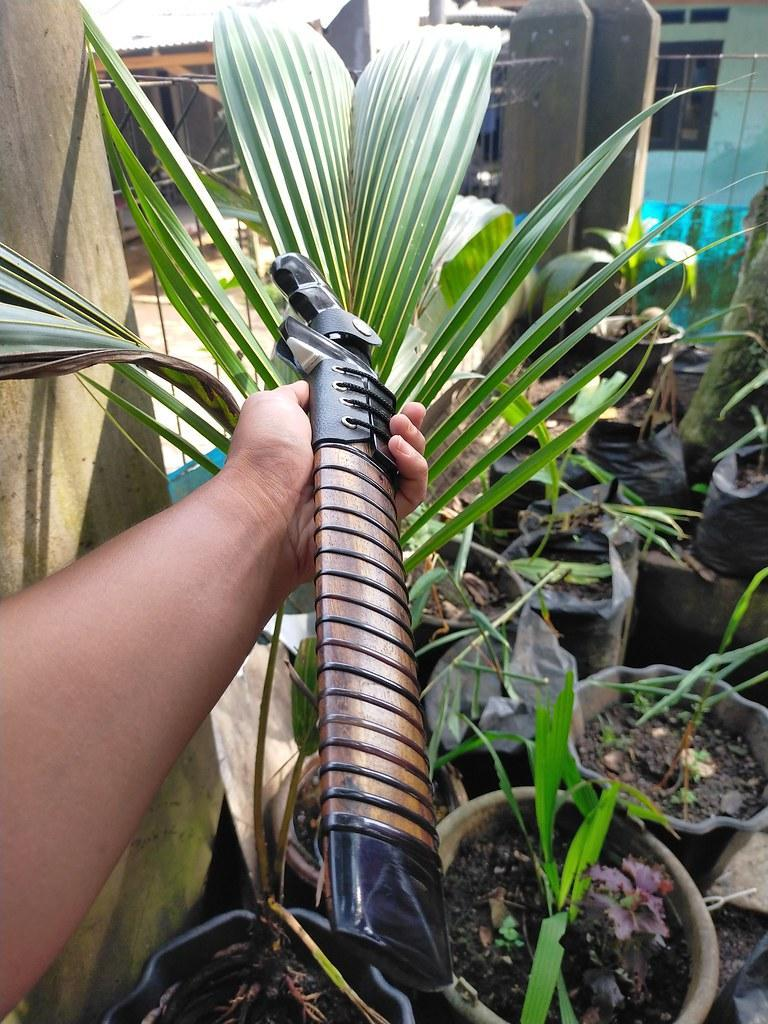facao: (253, 237, 480, 975)
